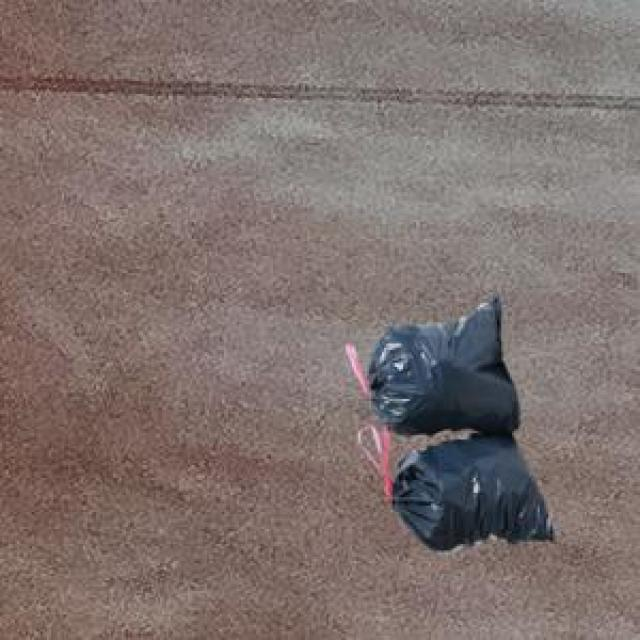Vinyl: (369, 295, 552, 549)
